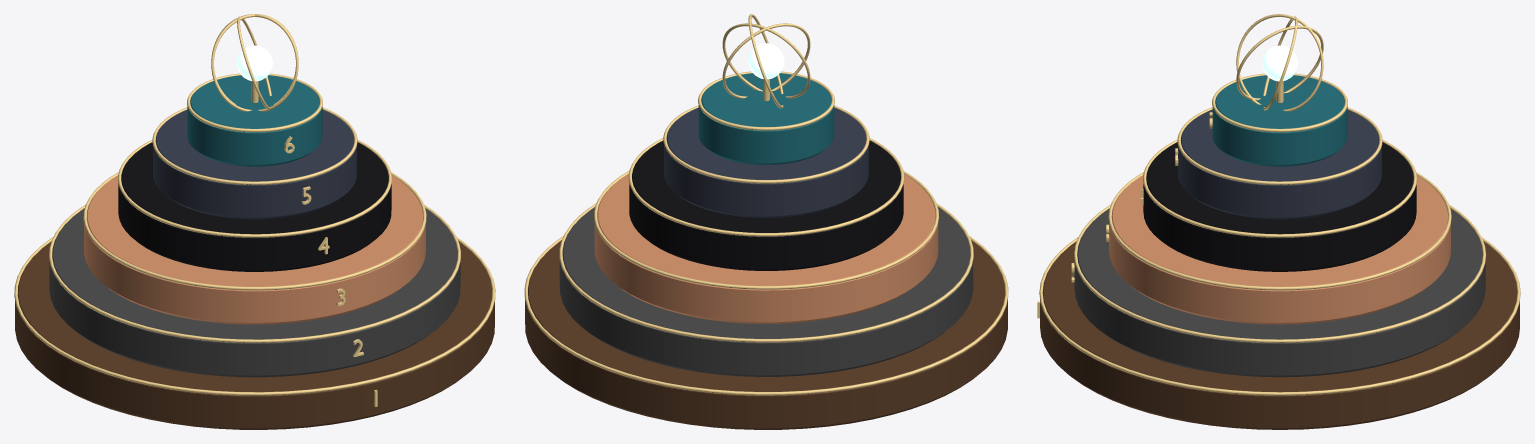
The model's file is uklad.glb.
The picture shows the model from 3 angles, left to right: view 1: azimuth 30°, elevation 25°; view 2: azimuth 150°, elevation 25°; view 3: azimuth 270°, elevation 25°; orthographic projection.
Parts seen in each view (by area): view 1: tier0, tier1, tier2, tier3, tier4, tier5, lip, lip.001, lip.002, lip.003, lip.004, lip.005 (+4 smaller); view 2: tier0, tier1, tier2, tier3, tier4, tier5, lip, lip.001, lip.002, lip.003, lip.004, lip.005 (+4 smaller); view 3: tier0, tier1, tier2, tier3, tier4, tier5, lip, lip.001, lip.002, lip.003, lip.004, lip.005 (+4 smaller).
Boxes of the visible parts, box(x1,y1,x2,y2) form: tier0: box(15, 241, 494, 429); tier1: box(49, 208, 460, 377); tier2: box(84, 175, 425, 324); tier3: box(118, 142, 391, 271); tier4: box(153, 109, 356, 219); tier5: box(187, 75, 322, 166); lip: box(14, 237, 495, 395); lip.001: box(49, 204, 460, 342); lip.002: box(83, 172, 426, 290); lip.003: box(118, 140, 391, 237); lip.004: box(152, 107, 357, 184); lip.005: box(187, 73, 322, 132); tier0: box(525, 240, 1007, 429); tier1: box(559, 207, 973, 376); tier2: box(594, 173, 938, 323); tier3: box(629, 140, 903, 270); tier4: box(664, 107, 868, 217); tier5: box(698, 73, 834, 164); lip: box(524, 236, 1008, 395); lip.001: box(559, 203, 973, 342); lip.002: box(594, 170, 938, 289); lip.003: box(628, 138, 904, 236); lip.004: box(663, 105, 869, 183); lip.005: box(698, 71, 834, 130); tier0: box(1040, 241, 1519, 429); tier1: box(1074, 208, 1485, 377); tier2: box(1109, 175, 1450, 324); tier3: box(1143, 142, 1416, 271); tier4: box(1178, 109, 1381, 219); tier5: box(1212, 75, 1347, 166); lip: box(1039, 237, 1520, 395); lip.001: box(1074, 204, 1486, 342); lip.002: box(1108, 172, 1451, 290); lip.003: box(1143, 139, 1417, 237); lip.004: box(1177, 107, 1382, 184); lip.005: box(1212, 73, 1347, 132).
Bounding box in the file's own units: 1.6 × 1.14 × 1.61.
